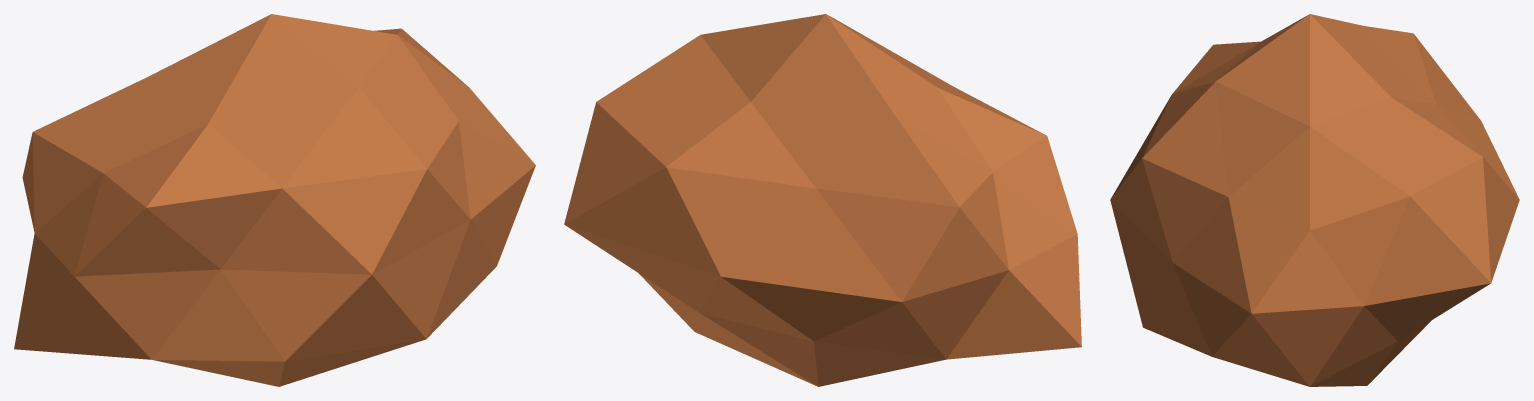
The model's file is CanyonBoulder.glb.
3 views of the same model, side by side, from view 1: azimuth 30°, elevation 25°; view 2: azimuth 150°, elevation 25°; view 3: azimuth 270°, elevation 25° (orthographic).
Parts seen in each view (by area): view 1: CanyonBoulder; view 2: CanyonBoulder; view 3: CanyonBoulder.
Boxes of the visible parts, left/top/right/bottom form: CanyonBoulder: left=14, top=14, right=535, bottom=386; CanyonBoulder: left=564, top=14, right=1081, bottom=386; CanyonBoulder: left=1110, top=14, right=1519, bottom=386.
Bounding box in the file's own units: 3.12 × 2 × 2.26.
